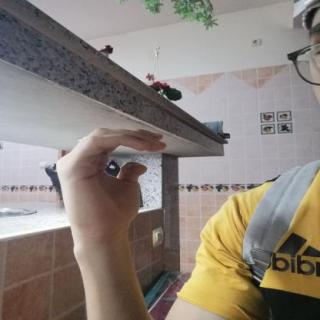JEEM: (42, 116, 176, 245)
